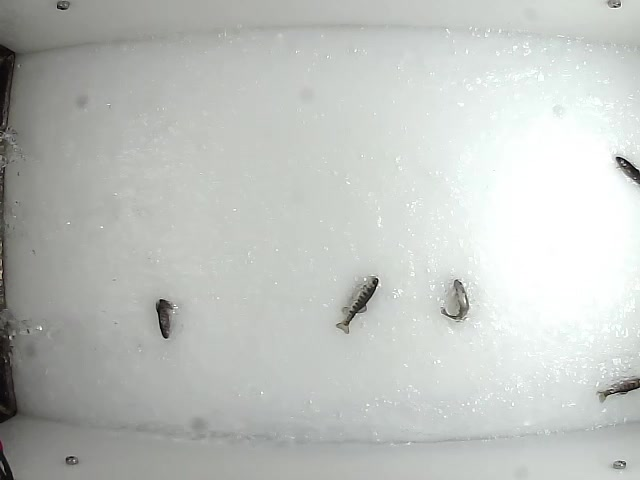fish: (335, 273, 381, 335), (438, 276, 469, 323), (595, 377, 640, 404), (617, 99, 640, 151), (153, 297, 175, 340)
